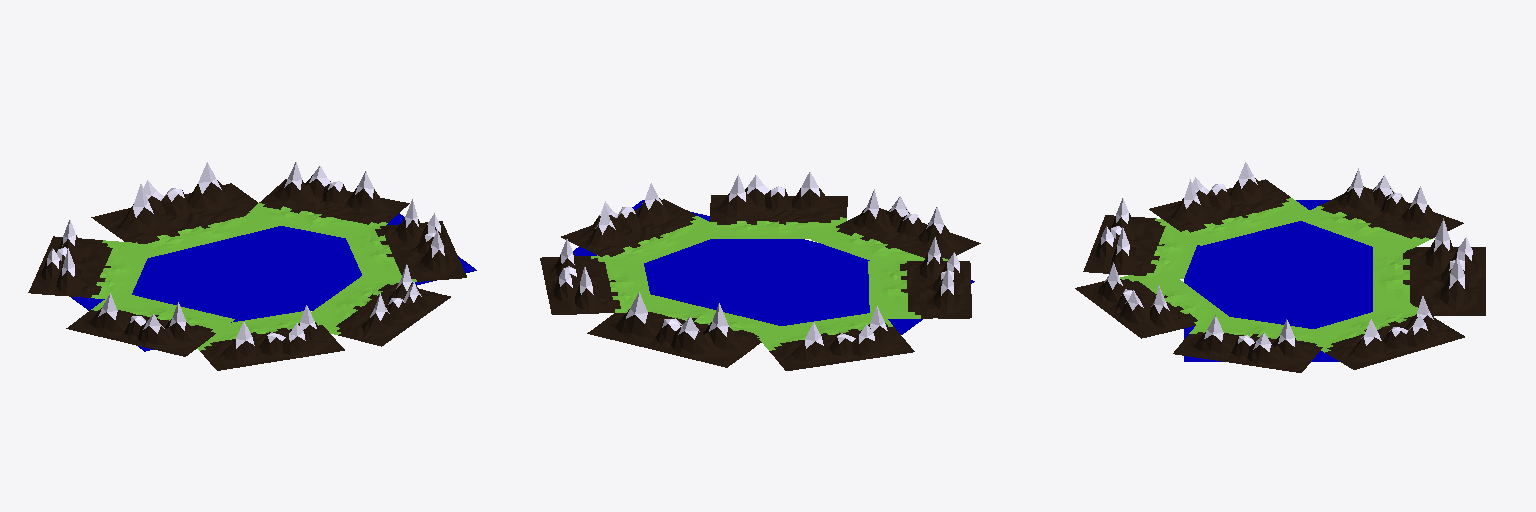
The model's file is world20.obj.
The picture shows the model from 3 angles: view 1: azimuth 30°, elevation 25°; view 2: azimuth 150°, elevation 25°; view 3: azimuth 270°, elevation 25°; orthographic projection.
Visible parts, largest first — view 1: Cube, Sahne, Sahne.001, Sahne.004, Sahne.003, Sahne.002, Sahne.006, Sahne.005; view 2: Cube, Sahne, Sahne.006, Sahne.002, Sahne.004, Sahne.003, Sahne.005, Sahne.001; view 3: Cube, Sahne, Sahne.004, Sahne.003, Sahne.002, Sahne.006, Sahne.001, Sahne.005.
Boxes of the visible parts, <box> form: Cube: <box>71,213,476,351</box>; Sahne: <box>91,162,279,257</box>; Sahne.001: <box>243,162,409,237</box>; Sahne.004: <box>66,291,234,356</box>; Sahne.003: <box>28,220,153,298</box>; Sahne.002: <box>342,199,466,282</box>; Sahne.006: <box>312,264,450,346</box>; Sahne.005: <box>197,305,344,370</box>; Cube: <box>573,200,974,334</box>; Sahne: <box>587,292,779,367</box>; Sahne.006: <box>709,172,847,238</box>; Sahne.002: <box>561,183,709,269</box>; Sahne.004: <box>868,237,971,318</box>; Sahne.003: <box>753,306,914,370</box>; Sahne.005: <box>811,189,980,260</box>; Sahne.001: <box>540,239,653,314</box>; Cube: <box>1184,200,1372,361</box>; Sahne: <box>1373,218,1485,315</box>; Sahne.004: <box>1149,162,1317,245</box>; Sahne.003: <box>1302,168,1463,255</box>; Sahne.002: <box>1173,315,1334,372</box>; Sahne.006: <box>1075,262,1229,338</box>; Sahne.001: <box>1315,296,1464,369</box>; Sahne.005: <box>1083,198,1197,278</box>.
Size of the model in its own units: 334 by 35.35 by 302.